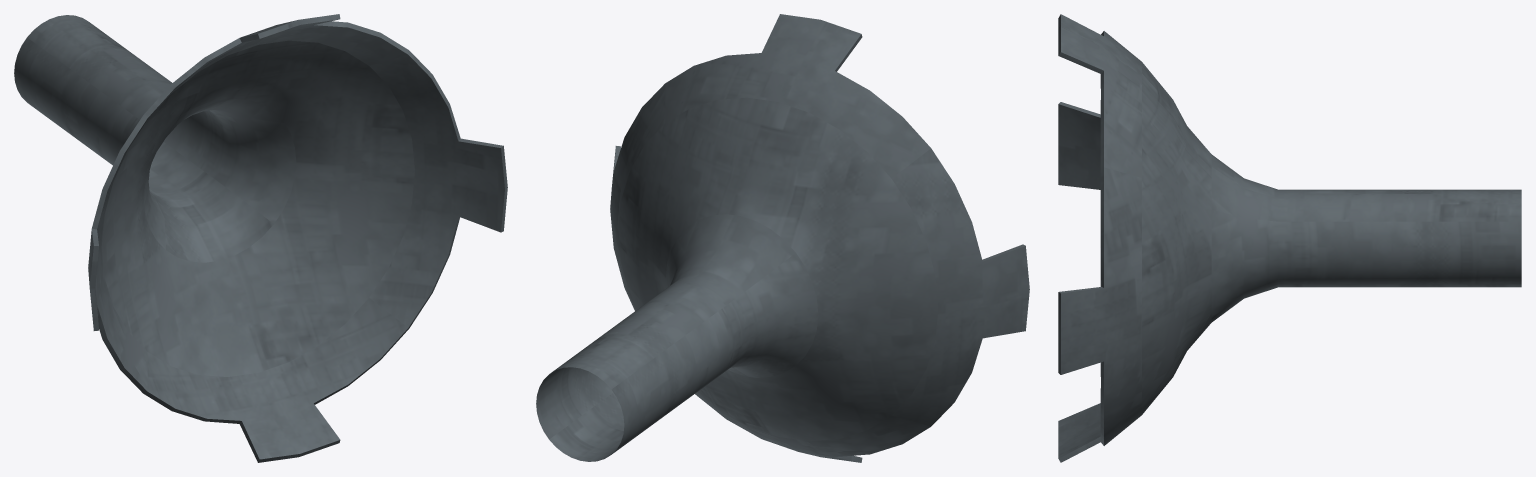
Rendered from jaguar_company_base_turret_holder.obj.
3 views of the same model, side by side, from view 1: azimuth 30°, elevation 25°; view 2: azimuth 150°, elevation 25°; view 3: azimuth 270°, elevation 25° (orthographic). The views are drawn at different scales.
Visible parts, largest first — view 1: jaguar_company_base_turret_holder; view 2: jaguar_company_base_turret_holder; view 3: jaguar_company_base_turret_holder.
Part boxes in pixels (box(x1,y1,x2,y2)): jaguar_company_base_turret_holder: box(14, 14, 507, 462); jaguar_company_base_turret_holder: box(536, 14, 1029, 462); jaguar_company_base_turret_holder: box(1058, 14, 1521, 462).
Bounding box in the file's own units: 24.1 × 24.1 × 24.15.
